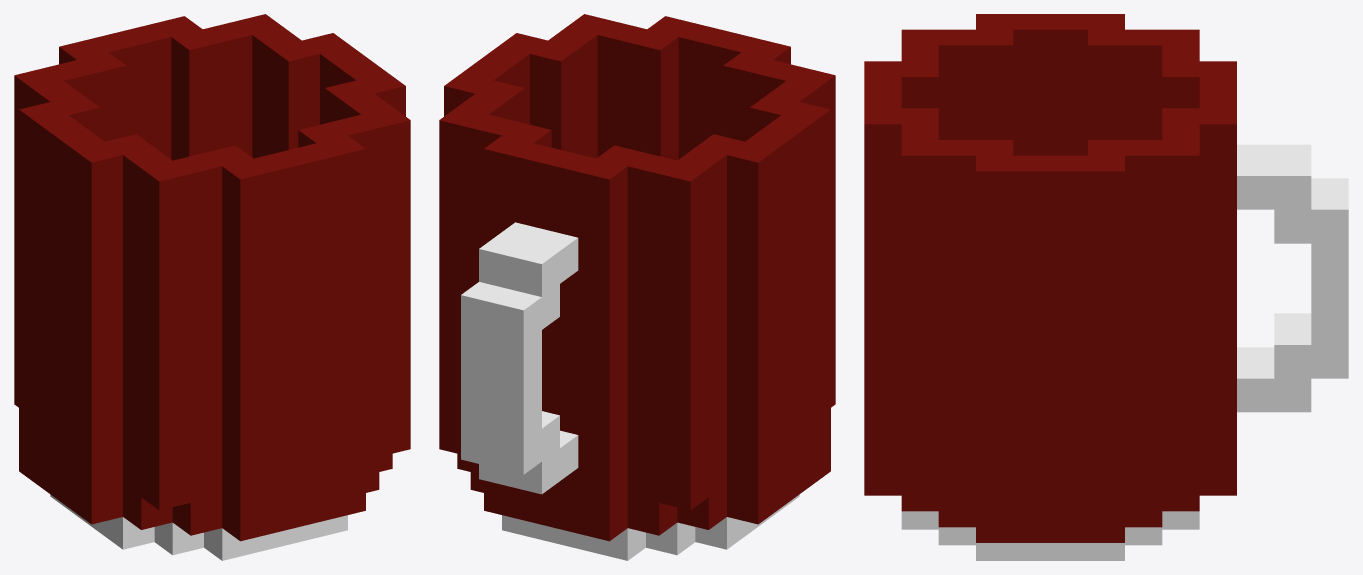
The model's file is SmallObject_Mug.fbx.
3 renders of one model, left to right at view 1: azimuth 30°, elevation 25°; view 2: azimuth 150°, elevation 25°; view 3: azimuth 270°, elevation 25°, orthographic. The views are drawn at different scales.
Visible parts, largest first — view 1: Mug; view 2: Mug; view 3: Mug.
Part boxes in pixels (left/top/right/bottom): Mug: left=14, top=14, right=410, bottom=560; Mug: left=439, top=14, right=835, bottom=560; Mug: left=864, top=14, right=1348, bottom=560.
Size of the model in its own units: 10 by 12 by 13.
